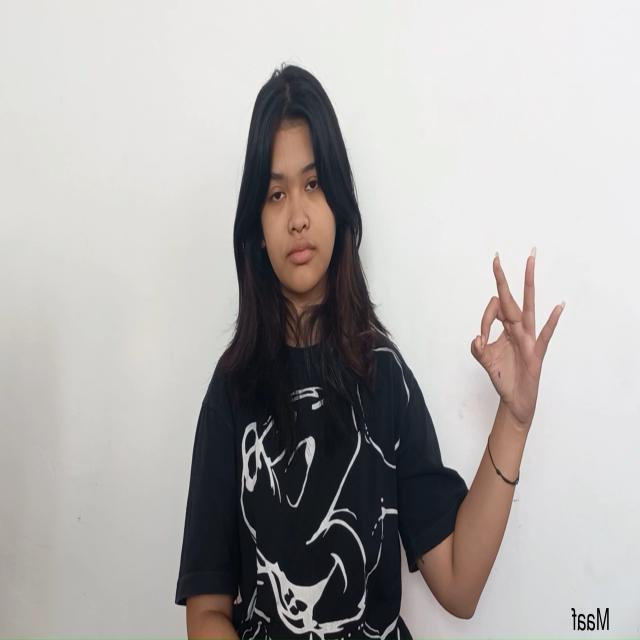Maaf -BISINDO-: (469, 238, 568, 449)
